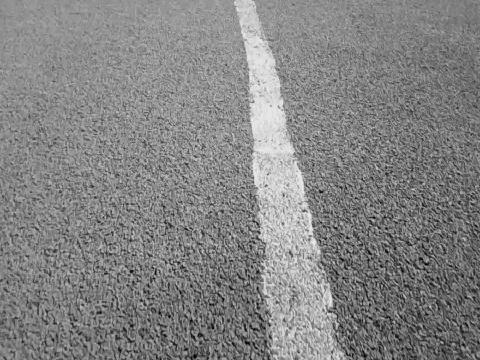Lines: (232, 0, 347, 360)
